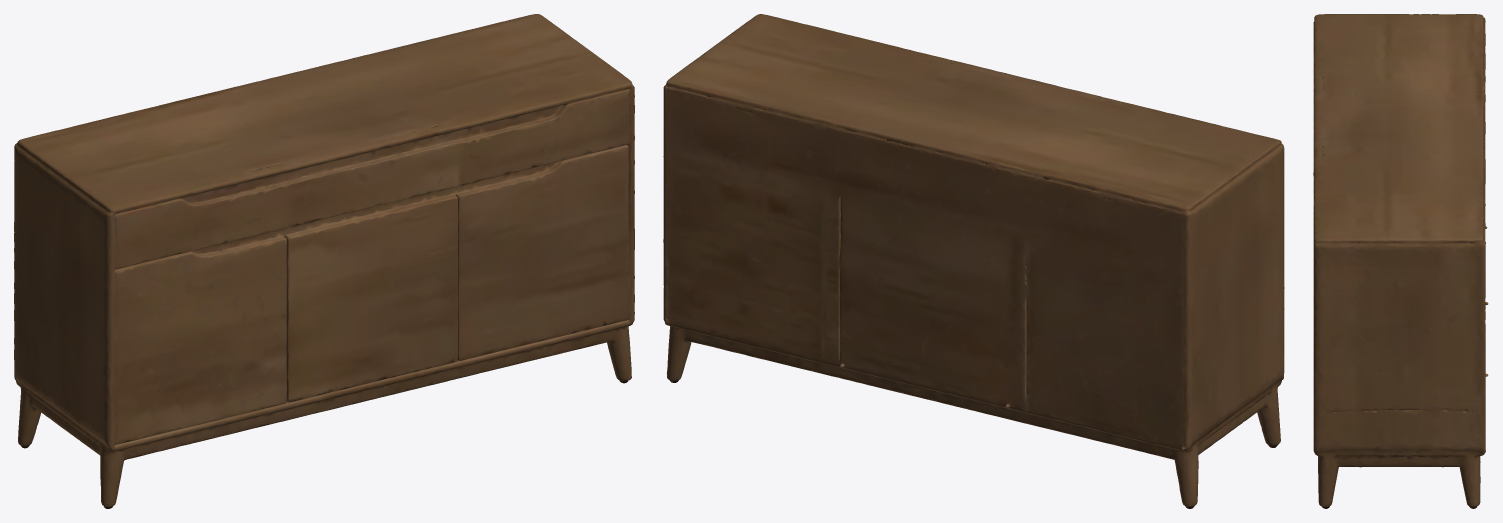
Rendered from storage-cabinet.glb.
The picture shows the model from 3 angles, left to right: view 1: azimuth 30°, elevation 25°; view 2: azimuth 150°, elevation 25°; view 3: azimuth 270°, elevation 25°; orthographic projection. The views are drawn at different scales.
Visible parts, largest first — view 1: world; view 2: world; view 3: world.
Boxes of the visible parts, box(x1,y1,x2,y2) form: world: box(14, 14, 634, 508); world: box(663, 14, 1284, 508); world: box(1313, 14, 1488, 508).
Bounding box in the file's own units: 1.67 × 0.9173 × 0.5388.
1 material, 1 textured.
